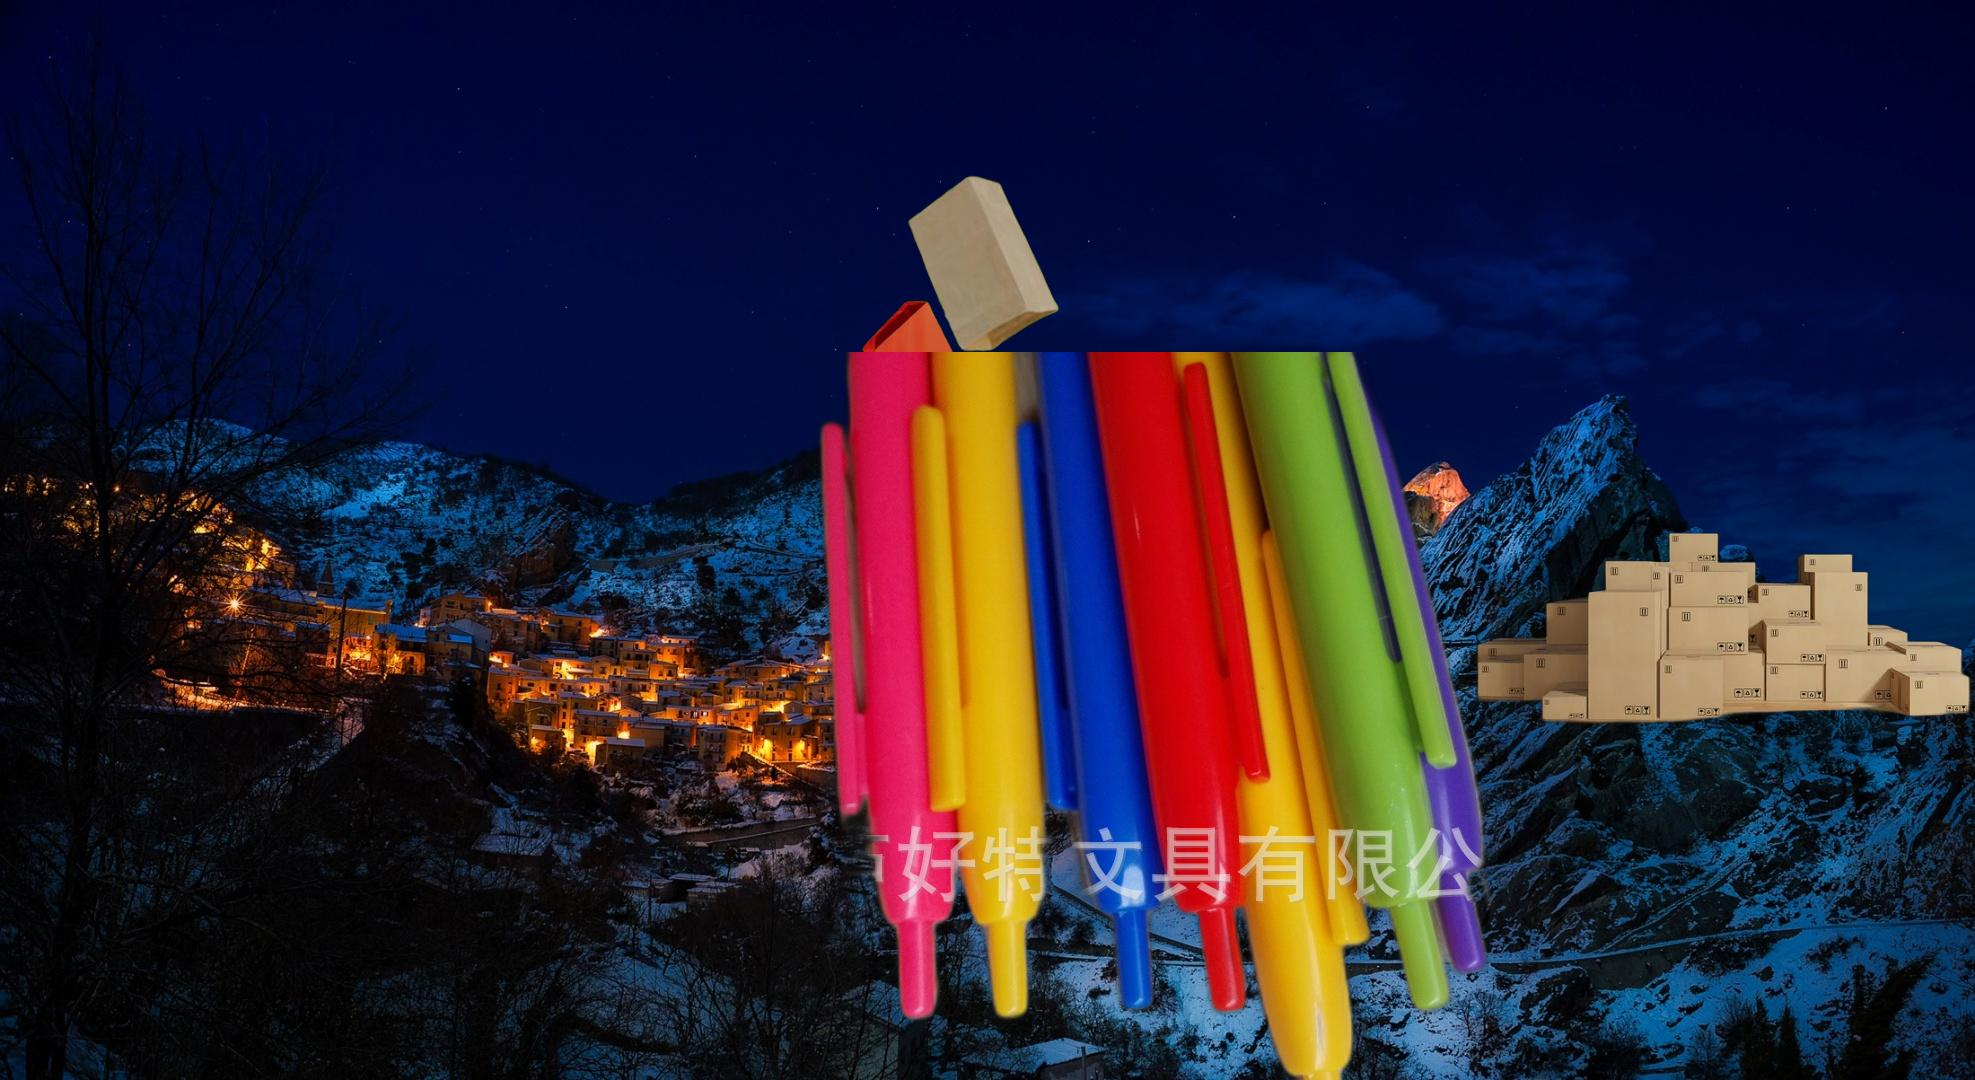paper-bag: (859, 173, 1061, 430)
penholder: (735, 352, 1514, 1080)
shoes: (938, 367, 1212, 551), (1390, 1072, 1756, 1080)
trashbox-cardboard: (1470, 529, 1975, 728)
